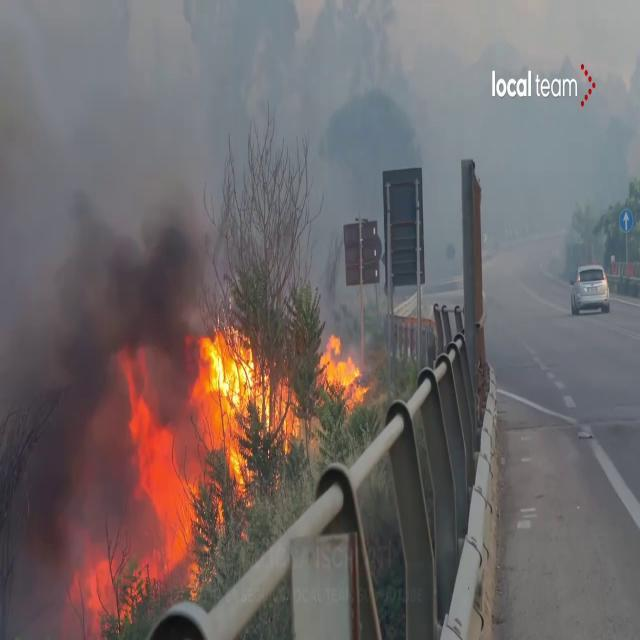Fire: (119, 362, 209, 586), (191, 318, 302, 476), (66, 540, 135, 634), (316, 329, 368, 407)
Smoke: (0, 9, 201, 602)
